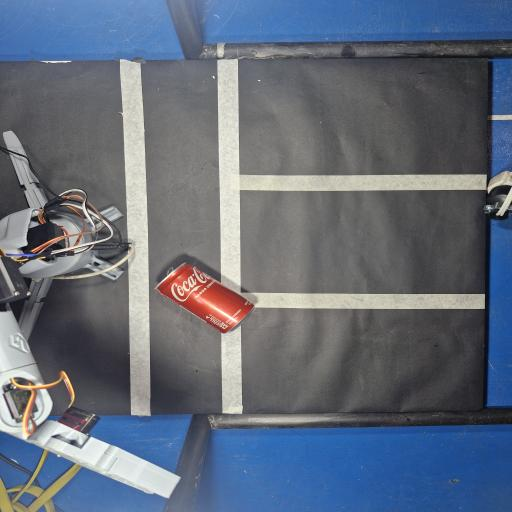lata: (156, 262, 254, 333)
